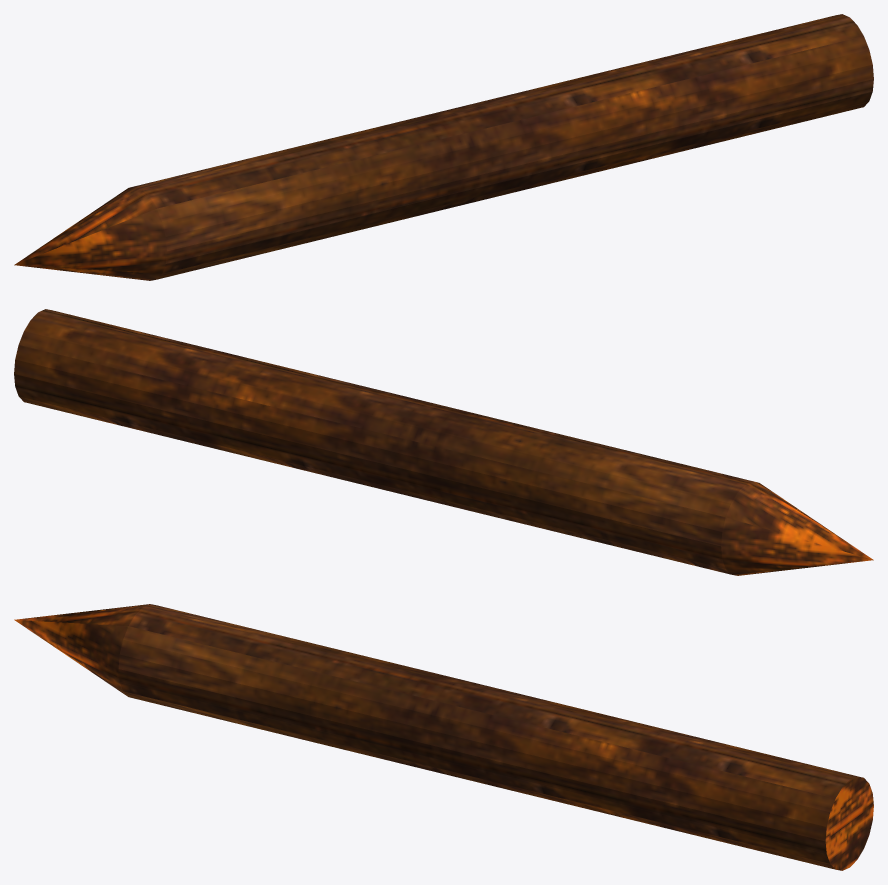
The model's file is Dart.fbx.
3 views of the same model, one above another, from view 1: azimuth 30°, elevation 25°; view 2: azimuth 150°, elevation 25°; view 3: azimuth 330°, elevation 25° (orthographic).
Visible parts, largest first — view 1: Dart; view 2: Dart; view 3: Dart.
Part boxes in pixels (bbox=[...]): Dart: bbox=[14, 14, 873, 280]; Dart: bbox=[14, 309, 873, 575]; Dart: bbox=[14, 604, 873, 870].
Size of the model in its own units: 15.12 by 1.52 by 1.52.
